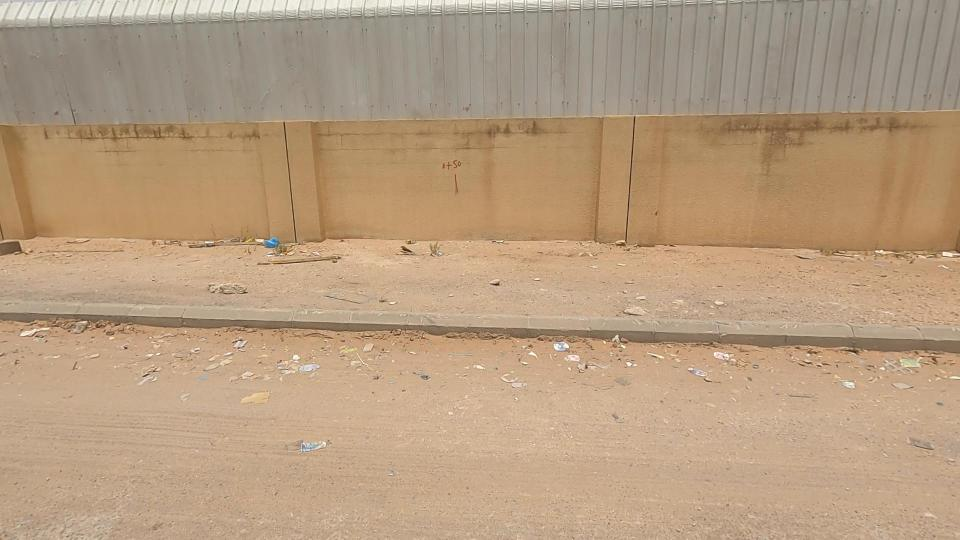GARBAGE: (99, 290, 293, 424), (170, 200, 401, 300), (635, 308, 801, 418), (485, 311, 642, 394), (224, 330, 363, 406), (265, 413, 349, 470)
